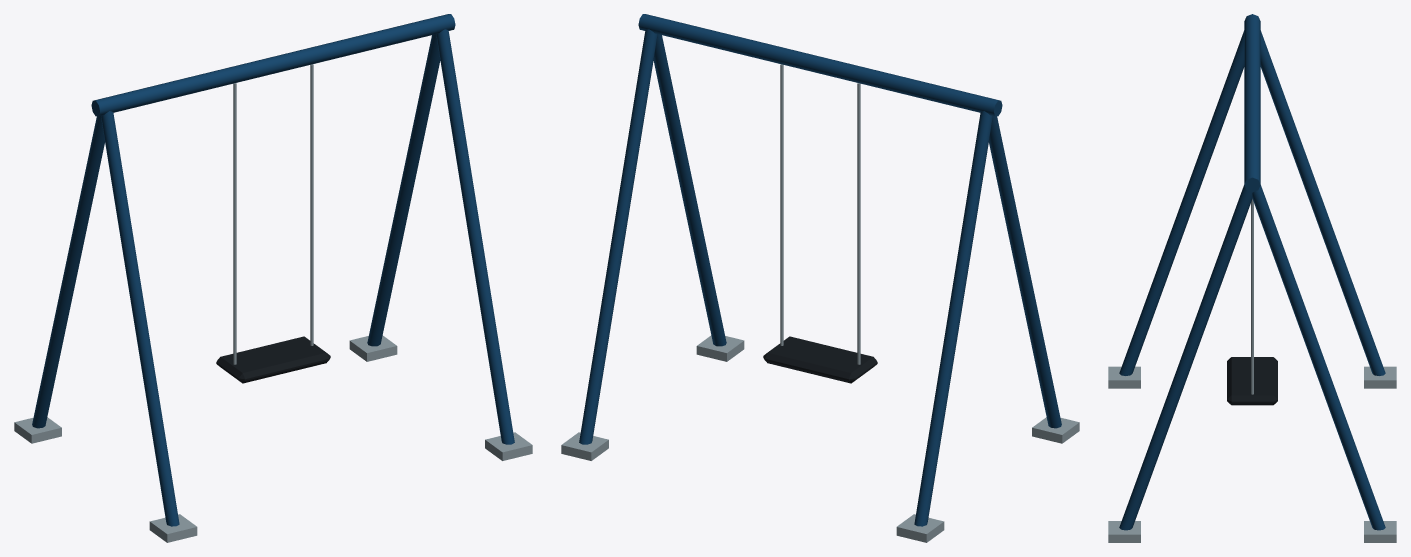
The model's file is playground_swing.glb.
The picture shows the model from 3 angles, left to right: view 1: azimuth 30°, elevation 25°; view 2: azimuth 150°, elevation 25°; view 3: azimuth 270°, elevation 25°; orthographic projection. The views are drawn at different scales.
Visible parts, largest first — view 1: paint, metal, trim; view 2: paint, metal, trim; view 3: paint, metal, trim.
Part boxes in pixels (bbox=[...]): paint: bbox=[32, 14, 514, 526]; metal: bbox=[14, 64, 532, 542]; trim: bbox=[216, 336, 330, 383]; paint: bbox=[579, 14, 1061, 526]; metal: bbox=[561, 64, 1079, 542]; trim: bbox=[763, 336, 877, 383]; paint: bbox=[1119, 14, 1385, 530]; metal: bbox=[1108, 199, 1396, 542]; trim: bbox=[1227, 357, 1277, 405].
Bounding box in the file's own units: 2.18 × 2.2 × 1.58.
